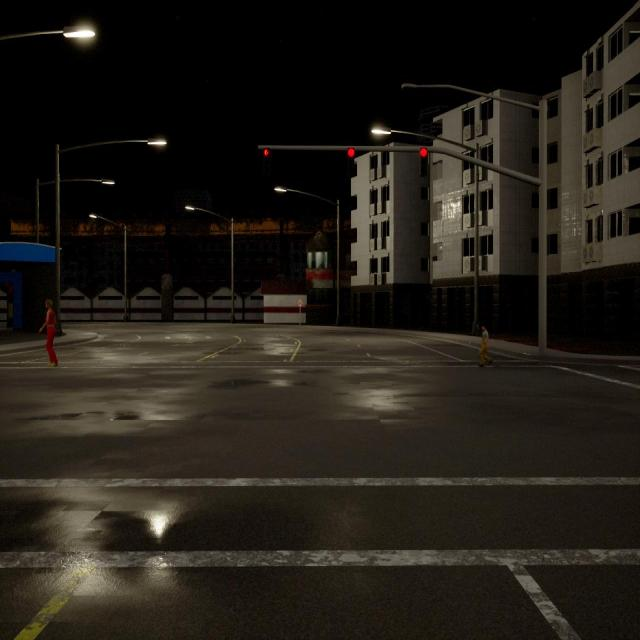Pedestrian: (39, 298, 56, 366), (479, 326, 491, 367)
Traffic_Signs: (298, 299, 302, 307)
traffic_light: (420, 147, 428, 175), (348, 147, 354, 168), (263, 148, 269, 167)
